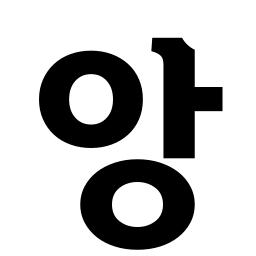Gaji: (153, 74, 212, 132)
